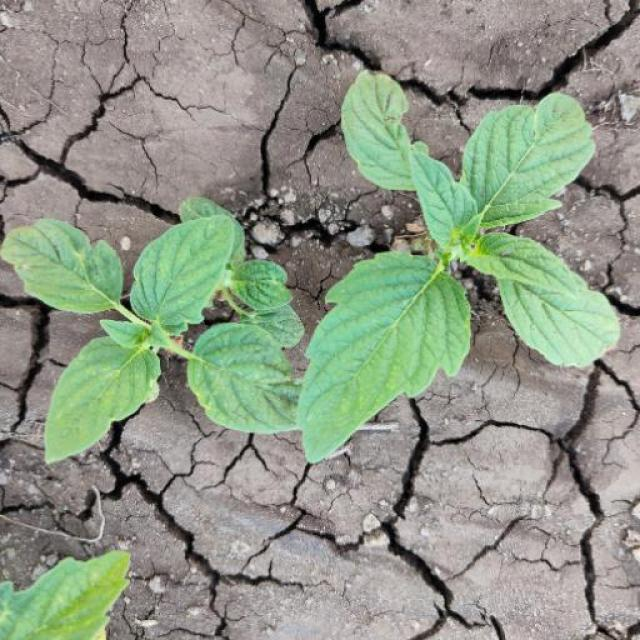crop: (294, 90, 620, 456), (11, 193, 328, 482)
